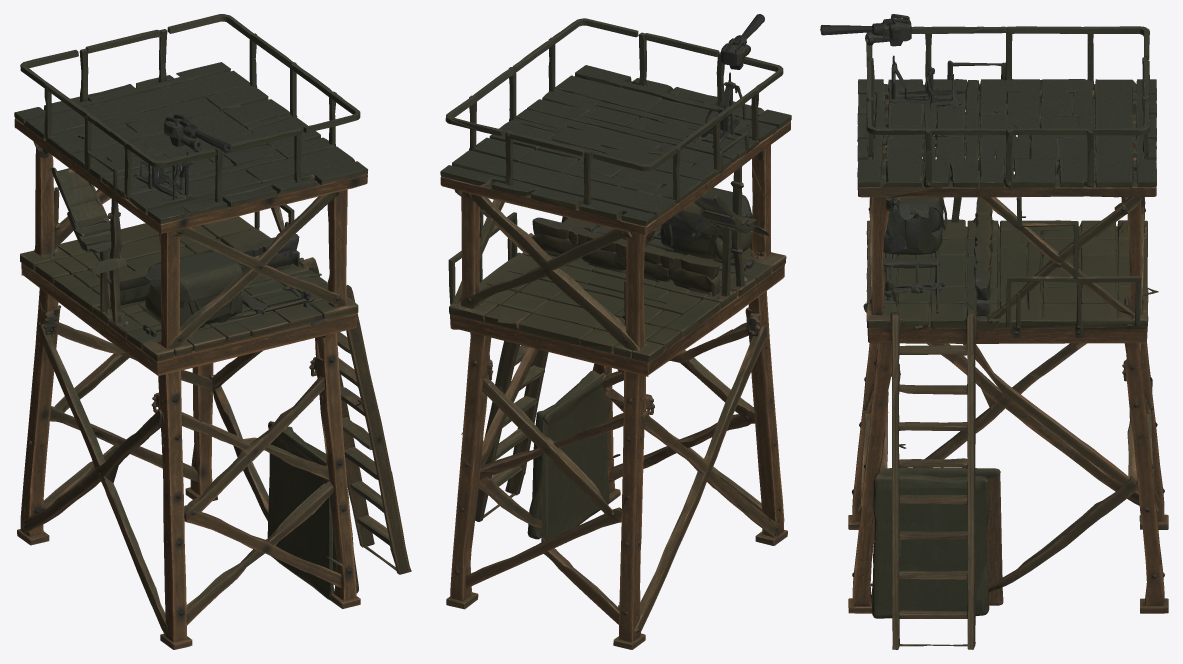
The model's file is watchtower.glb.
3 renders of one model, left to right at view 1: azimuth 30°, elevation 25°; view 2: azimuth 150°, elevation 25°; view 3: azimuth 270°, elevation 25°, orthographic. The views are drawn at different scales.
Size of the model in its own units: 1.14 by 1.9 by 1.15.
1 material, 1 textured.
